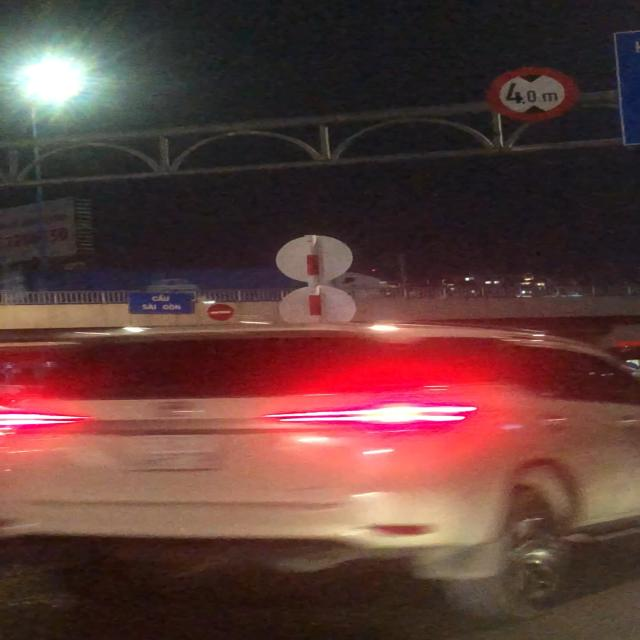Bien bao cam di nguoc chieu: (203, 302, 237, 322)
Bien bao han che chieu cao: (484, 65, 580, 123)
